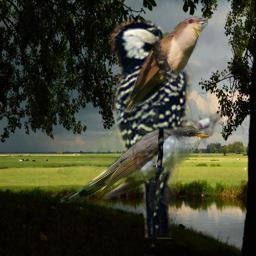Cuckoo: (57, 124, 209, 203), (122, 16, 208, 118)
Woodpecker: (108, 15, 225, 239)
